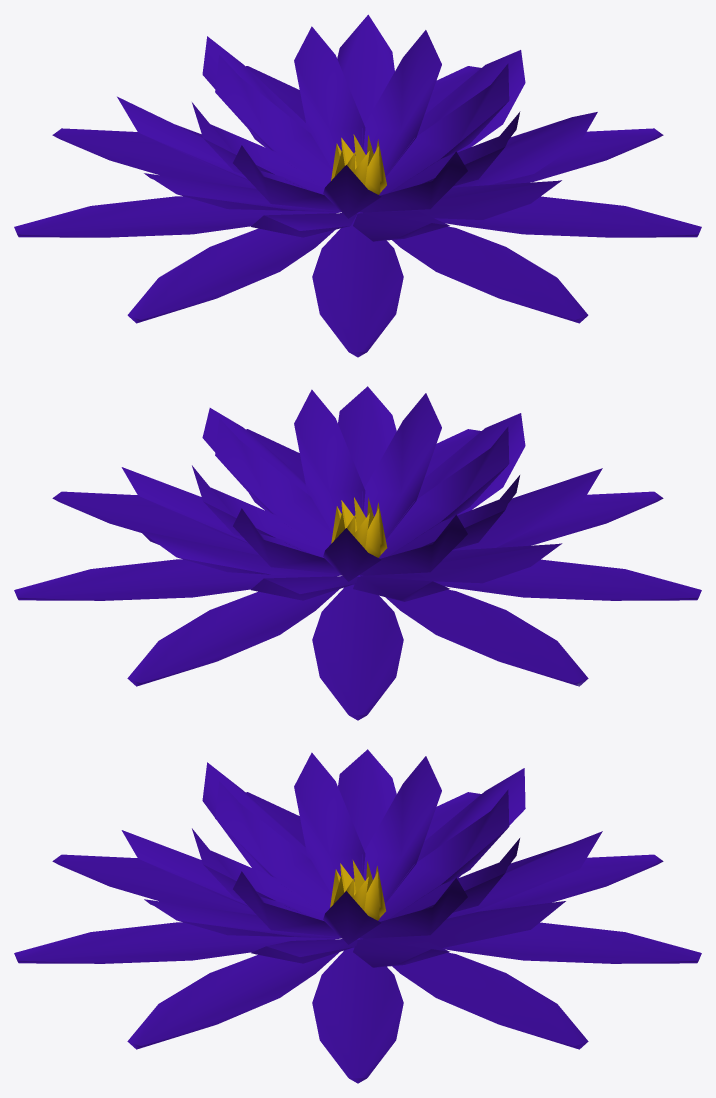
File: Flower 9.fbx
The picture shows the model from 3 angles, top to bottom: view 1: azimuth 30°, elevation 25°; view 2: azimuth 150°, elevation 25°; view 3: azimuth 270°, elevation 25°; orthographic projection.
Visible parts, largest first — view 1: Flower_9; view 2: Flower_9; view 3: Flower_9.
Part boxes in pixels (bbox=[...]): Flower_9: bbox=[14, 14, 701, 357]; Flower_9: bbox=[14, 386, 701, 720]; Flower_9: bbox=[14, 749, 701, 1083].
Size of the model in its own units: 56.41 by 10.89 by 57.28.
1 material, 1 textured.
